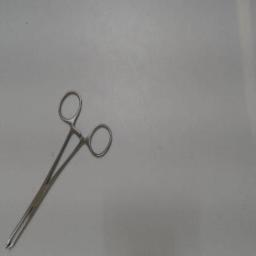Allis Tissue Forceps: (2, 86, 118, 254)
